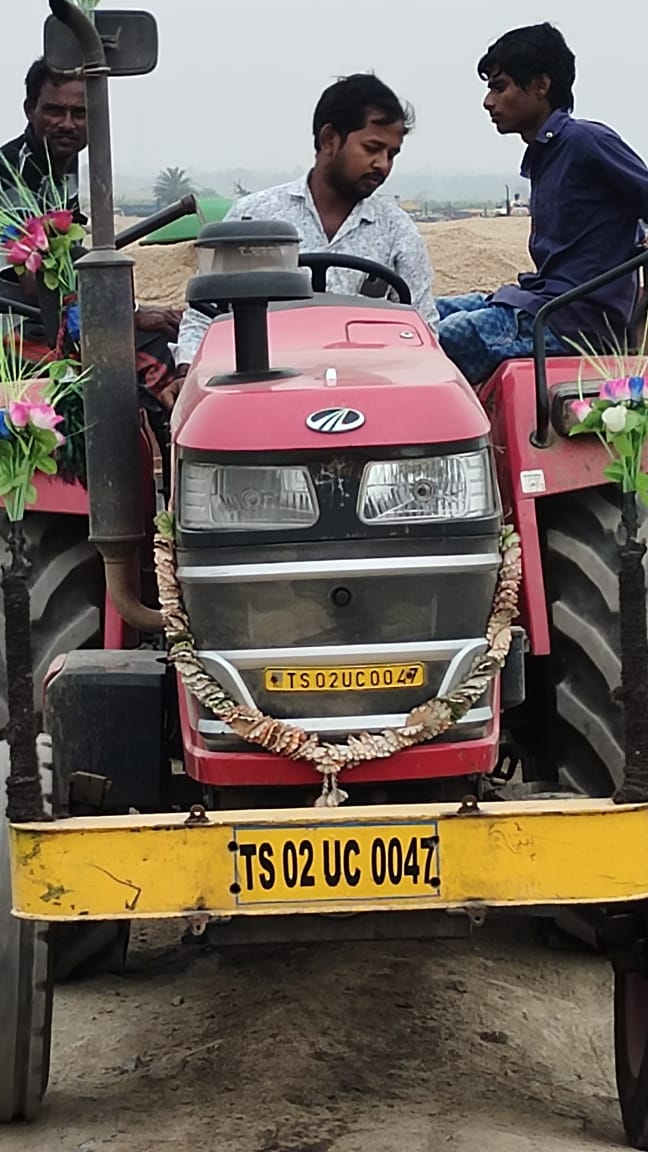license_plate: (232, 828, 440, 895)
